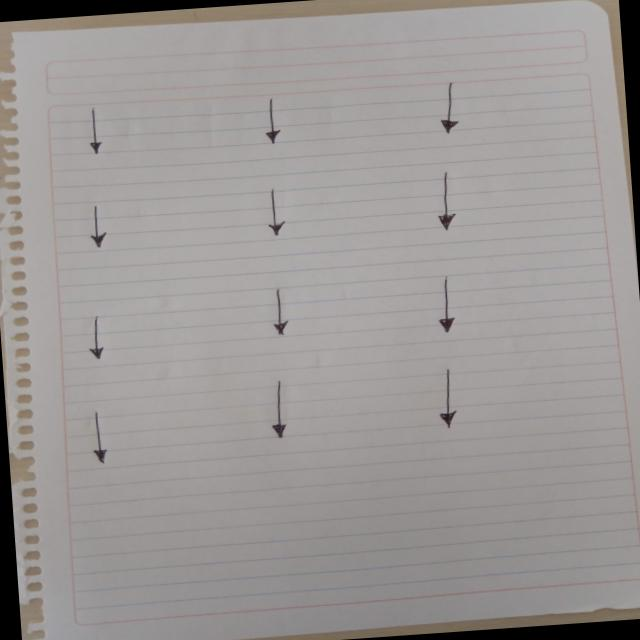arrow_line_down: (432, 366, 480, 436), (423, 276, 475, 332), (257, 382, 304, 442), (427, 170, 468, 233), (78, 199, 126, 250), (428, 82, 473, 136), (258, 186, 300, 240), (84, 408, 120, 471), (74, 314, 120, 363), (256, 95, 292, 146), (84, 106, 115, 160), (264, 292, 300, 338)
